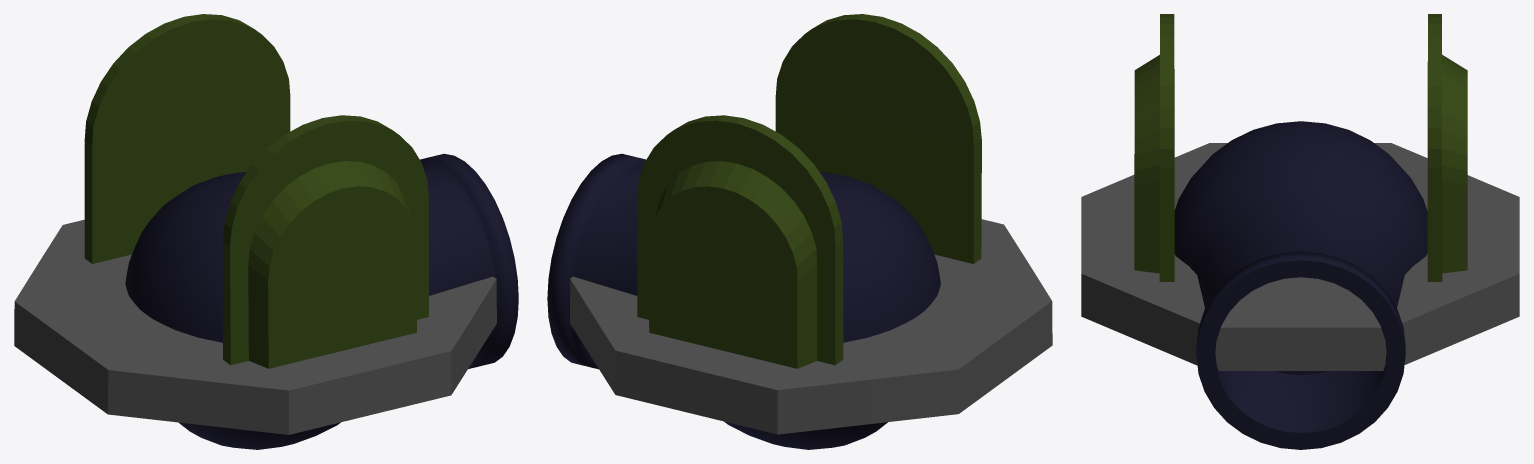
Rendered from cannon.fbx.
3 views of the same model, side by side, from view 1: azimuth 30°, elevation 25°; view 2: azimuth 150°, elevation 25°; view 3: azimuth 270°, elevation 25° (orthographic). The views are drawn at different scales.
Parts seen in each view (by area): view 1: frame, cannon; view 2: frame, cannon; view 3: frame, cannon.
Boxes of the visible parts, <box> form: frame: <box>14,14,496,434</box>; cannon: <box>125,153,518,449</box>; frame: <box>570,14,1052,434</box>; cannon: <box>547,153,940,449</box>; frame: <box>1081,14,1519,370</box>; cannon: <box>1174,121,1427,449</box>.
Bounding box in the file's own units: 190 × 165 × 185.
